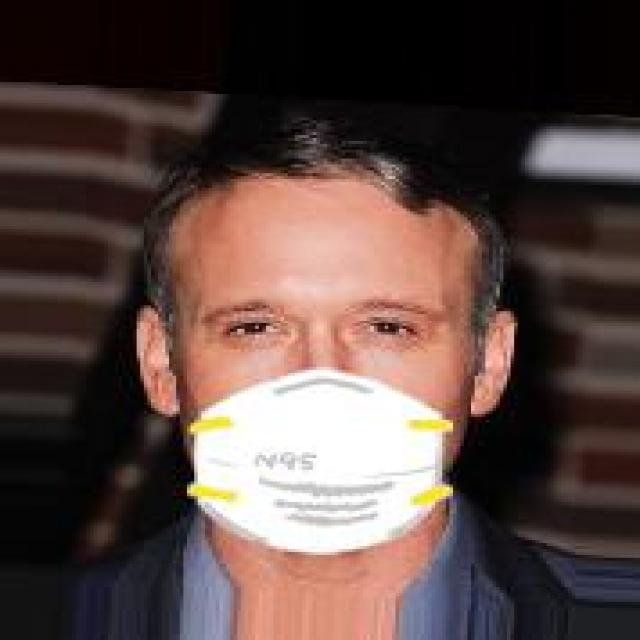mask: (118, 112, 582, 572)
